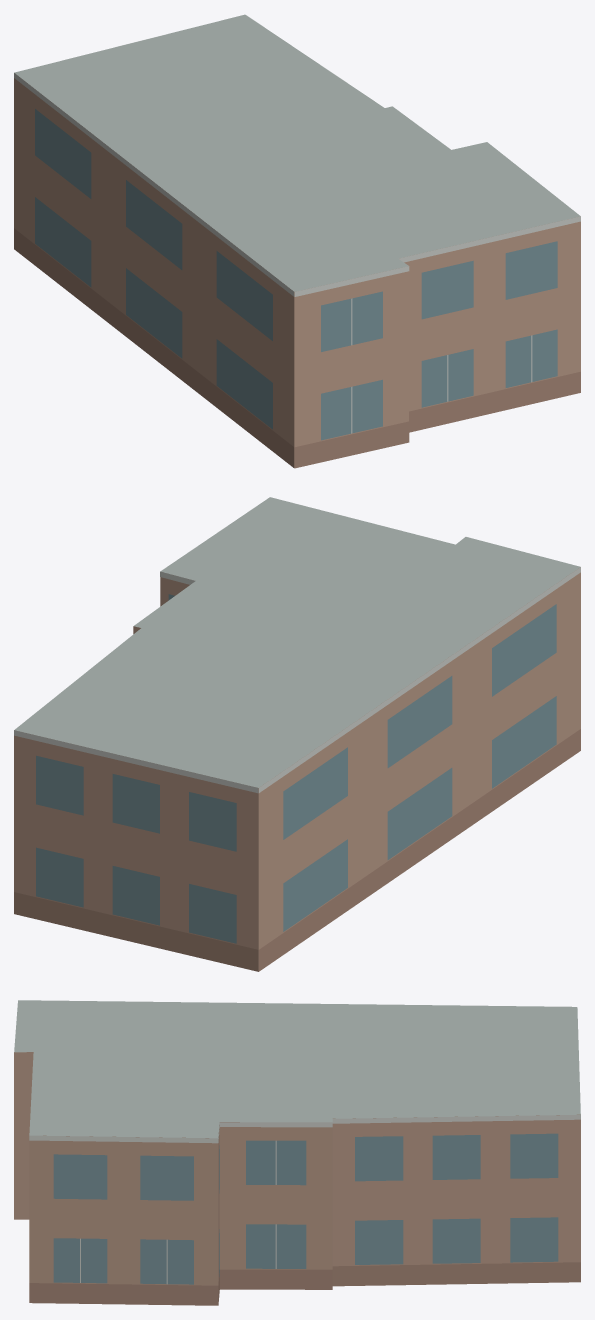
File: survey-upis-32997088.glb
The picture shows the model from 3 angles, top to bottom: view 1: azimuth 30°, elevation 25°; view 2: azimuth 150°, elevation 25°; view 3: azimuth 270°, elevation 25°; orthographic projection. The views are drawn at different scales.
Visible parts, largest first — view 1: survey-upis-32997088.tmp; view 2: survey-upis-32997088.tmp; view 3: survey-upis-32997088.tmp.
Boxes of the visible parts, <box> form: survey-upis-32997088.tmp: <box>14,14,580,468</box>; survey-upis-32997088.tmp: <box>14,497,580,971</box>; survey-upis-32997088.tmp: <box>14,1000,580,1305</box>.
Size of the model in its own units: 14.51 by 8.2 by 25.16.
